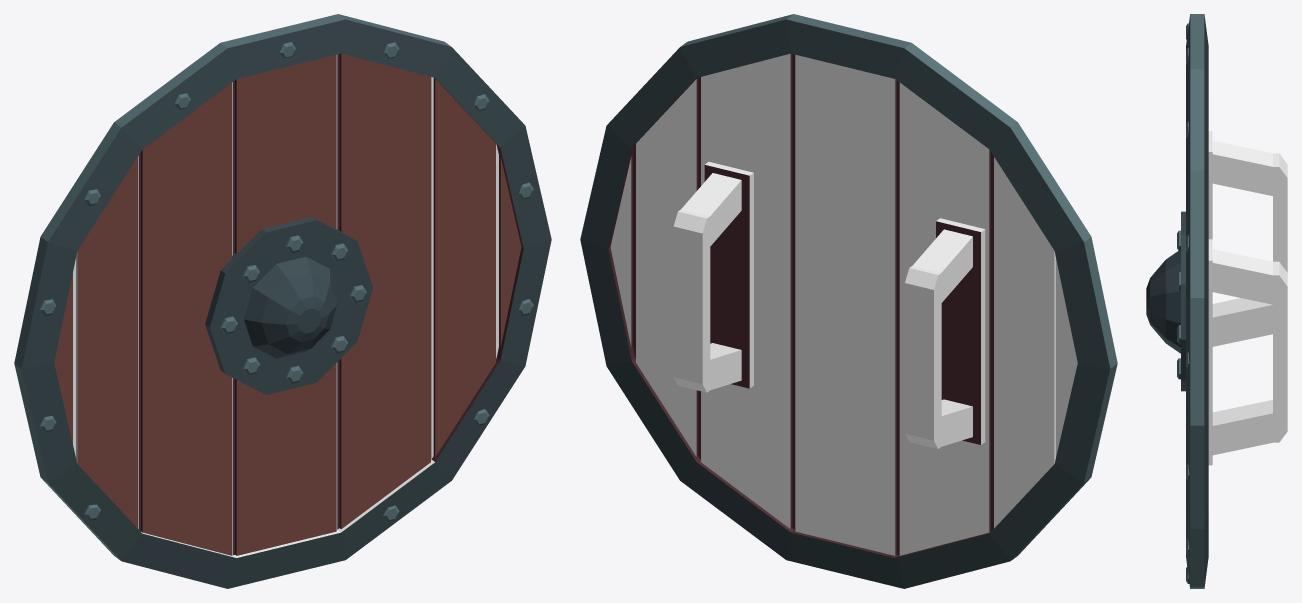
Rendered from VikingShield.fbx.
The picture shows the model from 3 angles, left to right: view 1: azimuth 30°, elevation 25°; view 2: azimuth 150°, elevation 25°; view 3: azimuth 270°, elevation 25°; orthographic projection. The views are drawn at different scales.
Visible parts, largest first — view 1: Shield A; view 2: Shield A; view 3: Shield A.
Part boxes in pixels (box(x1,y1,x2,y2)): Shield A: box(14, 14, 551, 588); Shield A: box(580, 14, 1117, 588); Shield A: box(1146, 14, 1287, 588).
Bounding box in the file's own units: 460 × 448 × 111.
